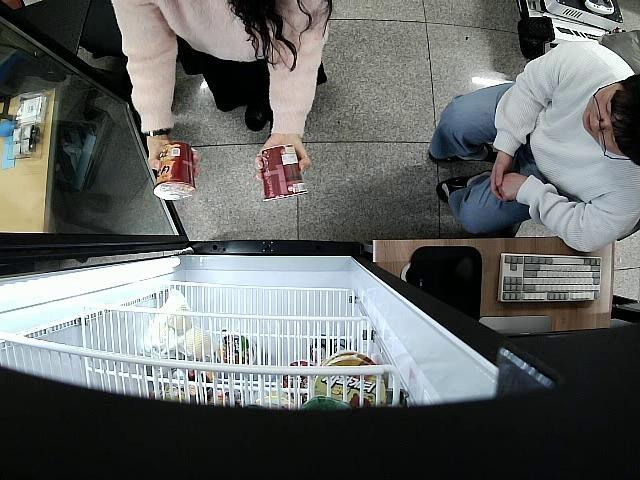06_nuguri_S: (257, 144, 307, 206), (152, 142, 198, 202)
